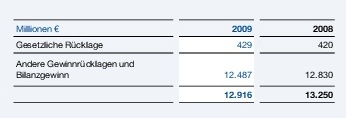table: (0, 0, 346, 118)
